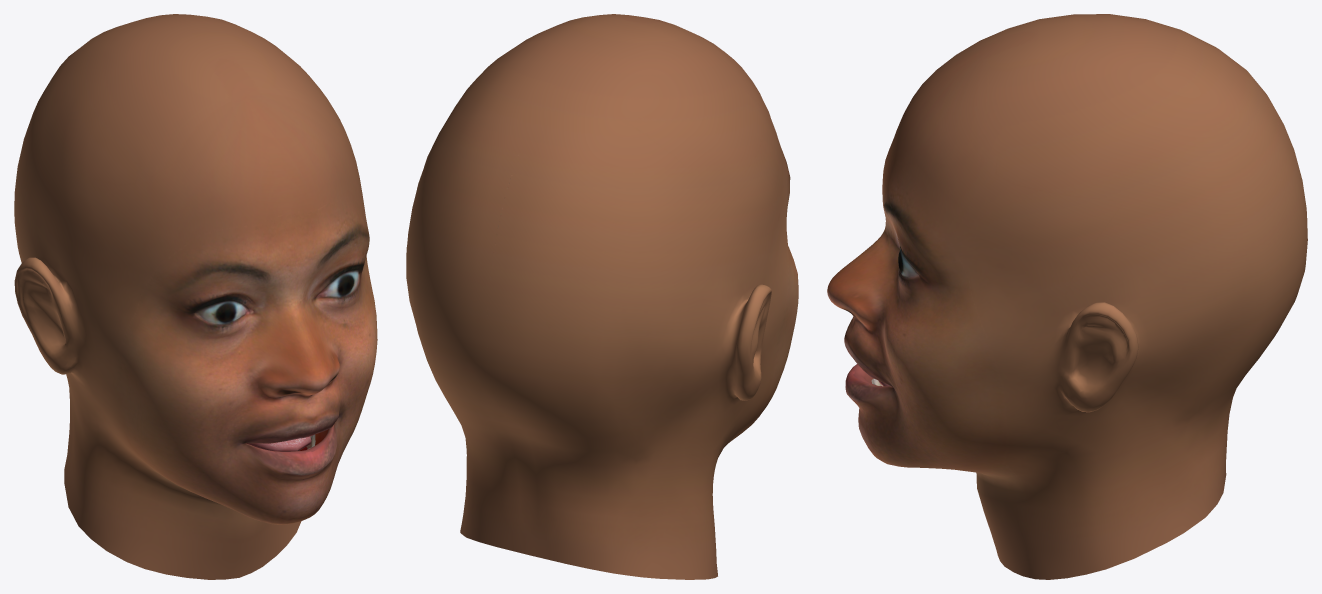
Rendered from v332_obj_Phonemei.obj.
3 renders of one model, left to right at view 1: azimuth 30°, elevation 25°; view 2: azimuth 150°, elevation 25°; view 3: azimuth 270°, elevation 25°, orthographic. The views are drawn at different scales.
Visible parts, largest first — view 1: HeadHires, Mouth; view 2: HeadHires; view 3: HeadHires.
Part boxes in pixels (box(x1,y1,x2,y2)): HeadHires: box(14, 14, 377, 579); Mouth: box(245, 429, 328, 451); HeadHires: box(406, 14, 798, 579); HeadHires: box(827, 14, 1307, 579).
Bounding box in the file's own units: 187 × 282 × 233.
